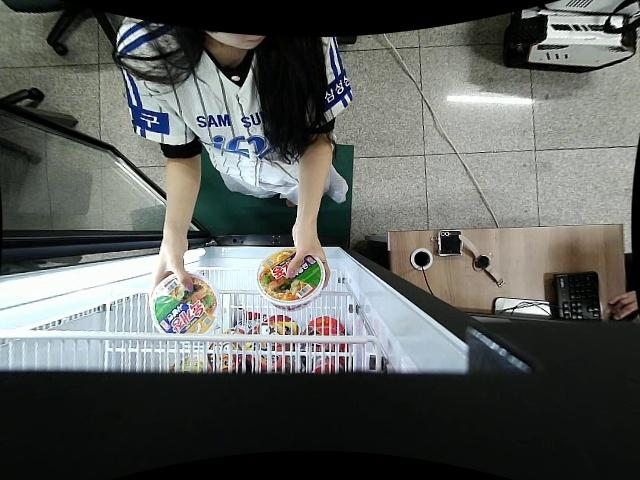00_hand: (283, 225, 333, 289), (149, 249, 196, 293)
09_yukGaeJang: (150, 271, 221, 333), (255, 249, 325, 307)
